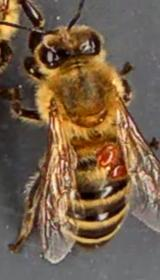varroa_mite: (90, 138, 124, 169), (106, 158, 130, 186)
